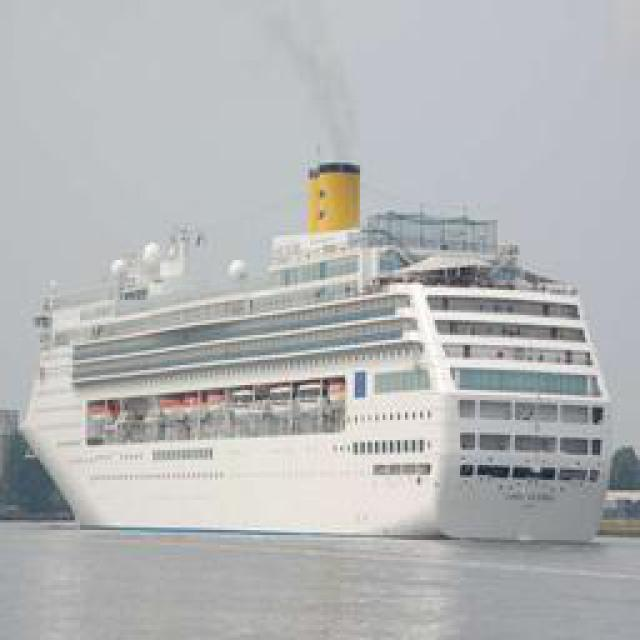Ship: (27, 227, 620, 545)
